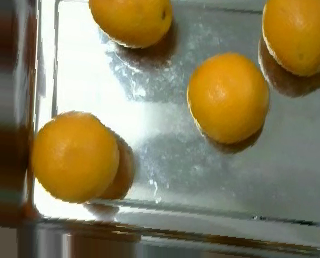Orange: (186, 50, 272, 146), (30, 110, 119, 202)
